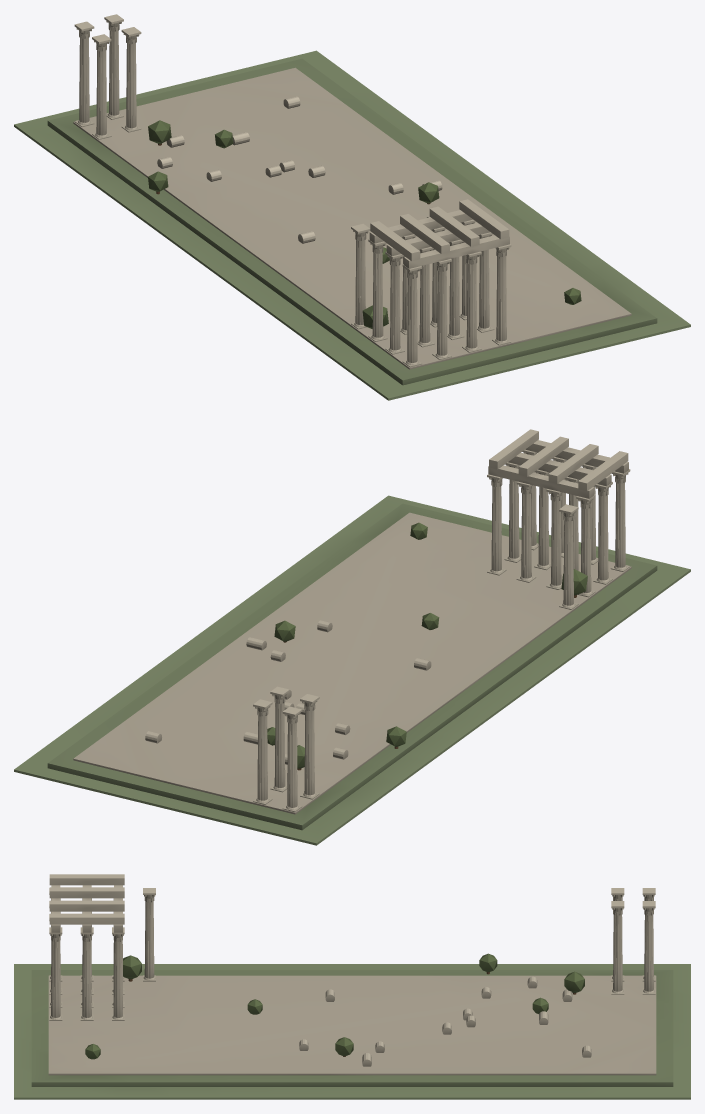
Rendered from olympieion-ruin.glb.
3 renders of one model, top to bottom at view 1: azimuth 30°, elevation 25°; view 2: azimuth 150°, elevation 25°; view 3: azimuth 270°, elevation 25°, orthographic. The views are drawn at different scales.
Visible parts, largest first — view 1: p0_platform, p1_columns, p2_architraves; view 2: p0_platform, p1_columns, p2_architraves; view 3: p0_platform, p2_architraves, p1_columns.
Boxes of the visible parts, x1,y1,x2,y2 form: p0_platform: (14,50,690,400); p1_columns: (74,14,511,367); p2_architraves: (148,96,581,328); p0_platform: (14,495,690,845); p1_columns: (253,449,630,811); p2_architraves: (145,429,628,770); p0_platform: (14,964,690,1099); p2_architraves: (49,874,591,1066); p1_columns: (49,888,655,1020).
Size of the model in its own units: 56 by 21.65 by 120.
